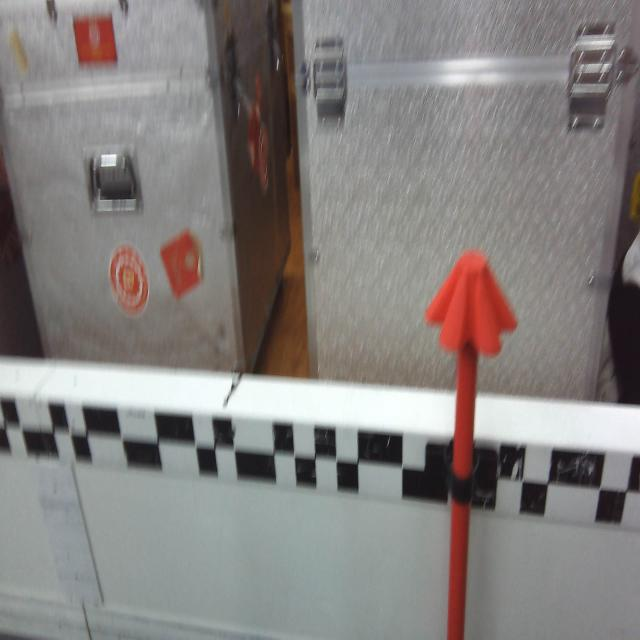zred-Stake-Head: (425, 251, 518, 357)
